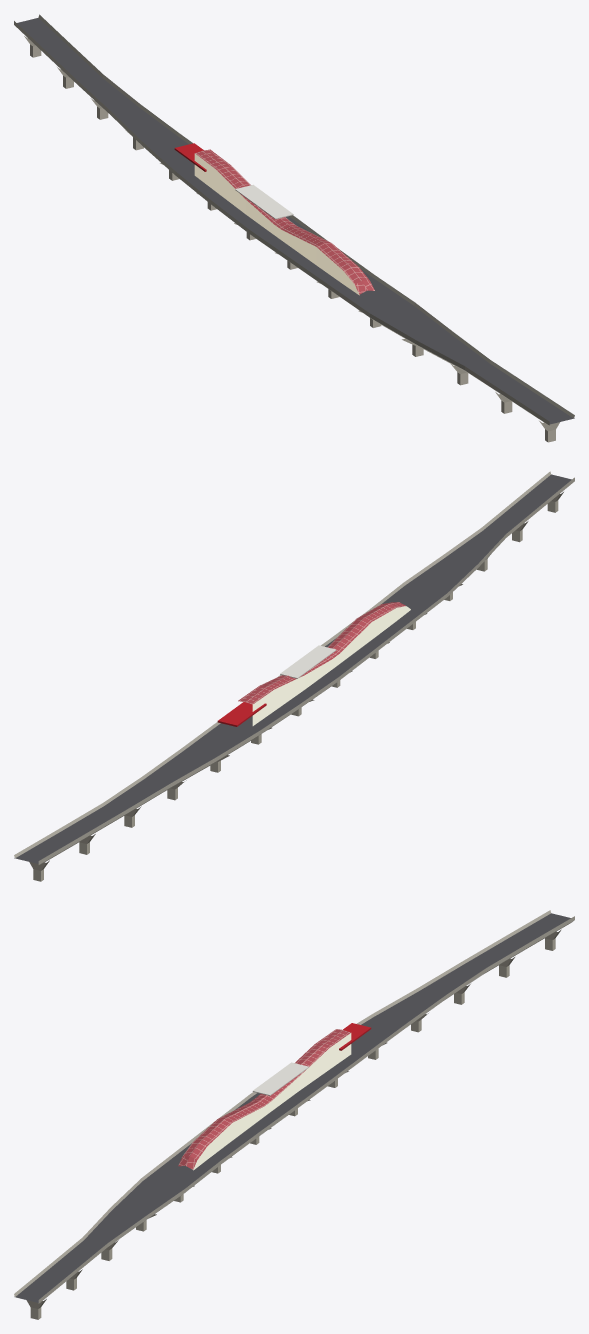
File: murree_road_metro_far.glb
The picture shows the model from 3 angles, top to bottom: view 1: azimuth 30°, elevation 25°; view 2: azimuth 150°, elevation 25°; view 3: azimuth 330°, elevation 25°; orthographic projection. The views are drawn at different scales.
Parts seen in each view (by area): view 1: m_road_asphalt, m_deck_concrete, m_hall_glass, m_roof_tile, m_pier_concrete, m_steel_white; view 2: m_road_asphalt, m_deck_concrete, m_hall_glass, m_roof_tile, m_pier_concrete, m_steel_white, m_trim_red; view 3: m_road_asphalt, m_deck_concrete, m_hall_glass, m_roof_tile, m_pier_concrete, m_steel_white.
Boxes of the visible parts, bbox=[...] form: m_road_asphalt: bbox=[17, 18, 574, 424]; m_deck_concrete: bbox=[14, 14, 574, 426]; m_hall_glass: bbox=[194, 153, 359, 295]; m_roof_tile: bbox=[195, 149, 374, 294]; m_pier_concrete: bbox=[24, 36, 559, 442]; m_steel_white: bbox=[235, 184, 293, 219]; m_road_asphalt: bbox=[14, 474, 571, 863]; m_deck_concrete: bbox=[14, 471, 574, 867]; m_hall_glass: bbox=[252, 606, 410, 725]; m_roof_tile: bbox=[238, 602, 405, 704]; m_pier_concrete: bbox=[29, 492, 563, 881]; m_steel_white: bbox=[280, 645, 336, 678]; m_trim_red: bbox=[217, 702, 266, 726]; m_road_asphalt: bbox=[14, 913, 570, 1302]; m_deck_concrete: bbox=[14, 910, 574, 1303]; m_hall_glass: bbox=[193, 1033, 351, 1170]; m_roof_tile: bbox=[178, 1029, 350, 1169]; m_pier_concrete: bbox=[26, 929, 561, 1319]; m_steel_white: bbox=[252, 1062, 308, 1095].
Bounding box in the file's own units: 23.55 × 17.75 × 352.
Materials: 7 (1 with a texture image).
